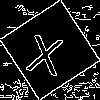X: (25, 25, 67, 76)
